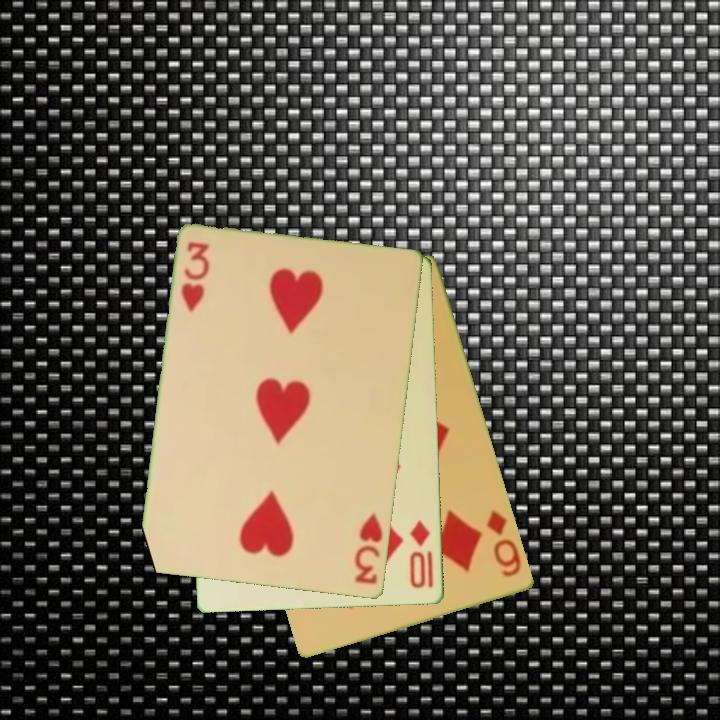10d: (406, 517, 437, 592)
3h: (351, 510, 386, 588), (177, 238, 212, 315)
6d: (483, 506, 525, 581)
